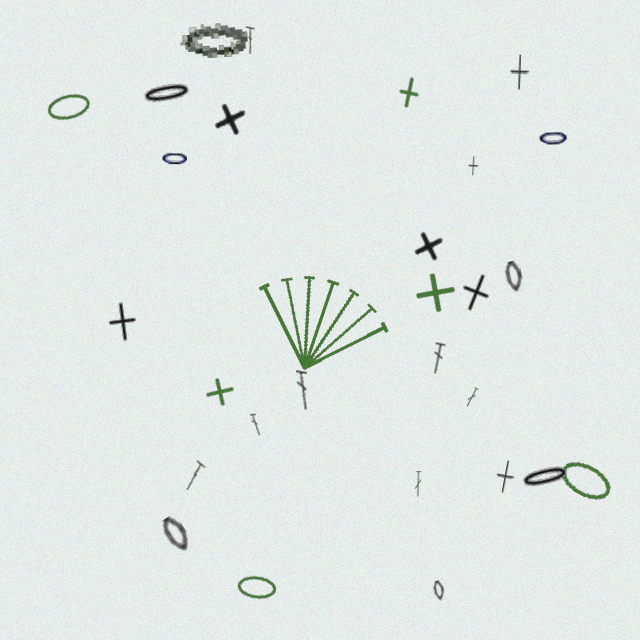chain: (555, 454, 617, 507), (180, 20, 248, 59), (518, 461, 573, 493), (45, 90, 92, 124), (140, 79, 194, 108), (158, 513, 195, 555), (236, 574, 277, 601), (537, 125, 570, 150), (503, 260, 525, 293), (160, 147, 190, 169), (432, 580, 446, 601)
double: (182, 460, 206, 492), (430, 342, 446, 375), (296, 370, 309, 410), (464, 387, 479, 408), (245, 26, 255, 54), (250, 413, 261, 436), (414, 471, 422, 497)
fan: (235, 246, 405, 394)
single: (409, 266, 461, 318), (454, 269, 496, 316), (211, 98, 250, 139), (200, 372, 239, 411), (389, 73, 428, 112), (105, 301, 139, 343), (411, 227, 447, 264), (494, 459, 517, 495), (510, 54, 530, 91), (468, 156, 479, 176)
